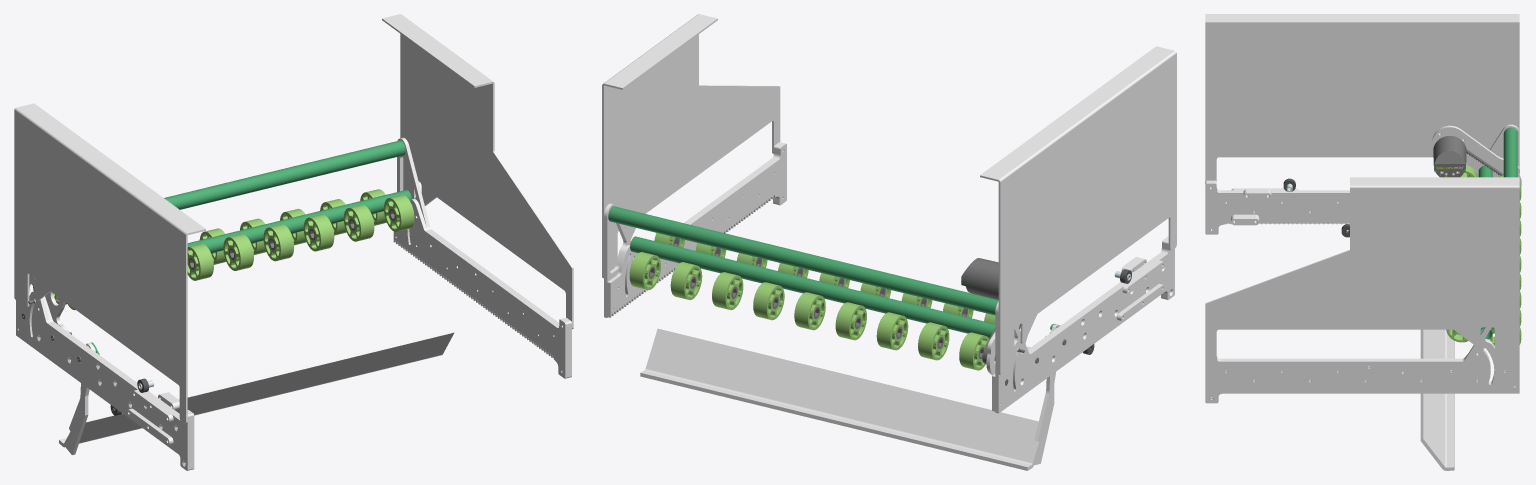
3 views of the same model, side by side, from view 1: azimuth 30°, elevation 25°; view 2: azimuth 150°, elevation 25°; view 3: azimuth 270°, elevation 25° (orthographic). The views are drawn at different scales.
Visible parts, largest first — view 1: occurrence of Part 20, occurrence of Part 22, occurrence of Part 1 (×2), occurrence of Part 18, occurrence of Part 2 (×2), occurrence of Part 9 (×2), occurrence of 2.25" Compliant Wheel (35A, 1" Wide, 1/2" Hex  (×6), occurrence of Part 5; view 2: occurrence of Part 20, occurrence of Part 22, occurrence of Part 18, occurrence of Part 9 (×2), occurrence of 2.25" Compliant Wheel (35A, 1" Wide, 1/2" Hex  (×9), occurrence of Part 1 (×2), occurrence of Part 2 (×2), Kraken X60 Brushless Motor <1>, occurrence of Part 5; view 3: occurrence of Part 20, occurrence of Part 22, occurrence of Part 1 (×2), occurrence of Part 2 (×2), occurrence of Part 18, occurrence of Part 6, Kraken X60 Brushless Motor <1>, occurrence of Part 9.
Part boxes in pixels (<box>): occurrence of Part 20: <box>14,103,205,423</box>; occurrence of Part 22: <box>382,14,573,329</box>; occurrence of Part 1 (×2): <box>16,137,571,470</box>; occurrence of Part 18: <box>59,329,454,447</box>; occurrence of Part 2 (×2): <box>43,198,568,469</box>; occurrence of Part 9 (×2): <box>164,140,411,253</box>; occurrence of 2.25" Compliant Wheel (35A, 1" Wide, 1/2" Hex  (×6): <box>187,195,414,280</box>; occurrence of Part 5: <box>65,342,95,454</box>; occurrence of Part 20: <box>980,46,1176,375</box>; occurrence of Part 22: <box>602,14,780,278</box>; occurrence of Part 18: <box>640,328,1046,470</box>; occurrence of Part 9 (×2): <box>608,206,998,338</box>; occurrence of 2.25" Compliant Wheel (35A, 1" Wide, 1/2" Hex  (×9): <box>629,252,988,370</box>; occurrence of Part 1 (×2): <box>604,142,1174,413</box>; occurrence of Part 2 (×2): <box>607,143,1168,411</box>; Kraken X60 Brushless Motor <1>: <box>961,258,998,299</box>; occurrence of Part 5: <box>1034,324,1060,465</box>; occurrence of Part 20: <box>1205,14,1519,180</box>; occurrence of Part 22: <box>1205,177,1519,360</box>; occurrence of Part 1 (×2): <box>1205,124,1519,403</box>; occurrence of Part 2 (×2): <box>1205,182,1515,398</box>; occurrence of Part 18: <box>1420,329,1454,470</box>; occurrence of Part 6: <box>1432,125,1521,186</box>; Kraken X60 Brushless Motor <1>: <box>1433,136,1466,177</box>; occurrence of Part 9: <box>1503,127,1517,177</box>.
Size of the model in its own units: 0.7445 by 0.5694 by 0.5688.
